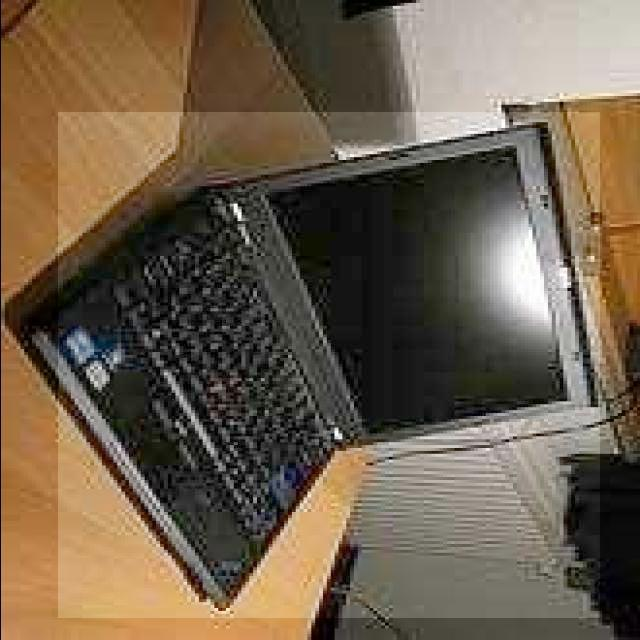-keyboard-: (58, 112, 600, 618)
